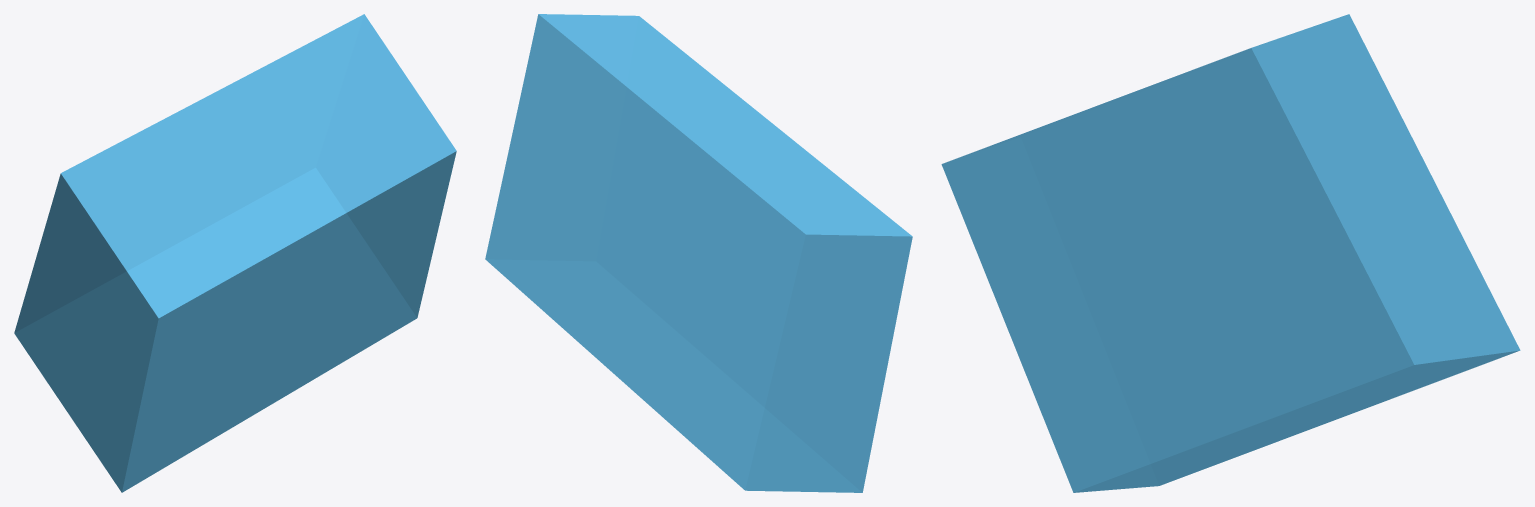
File: Event_420107950_HErechit_43.fbx
3 renders of one model, left to right at view 1: azimuth 30°, elevation 25°; view 2: azimuth 150°, elevation 25°; view 3: azimuth 270°, elevation 25°, orthographic. The views are drawn at different scales.
Visible parts, largest first — view 1: Model; view 2: Model; view 3: Model.
Boxes of the visible parts, x1,y1,x2,y2 form: Model: [14, 14, 456, 492]; Model: [485, 14, 912, 492]; Model: [941, 14, 1520, 492].
Bounding box in the file's own units: 0.6555 × 0.8972 × 0.7145.
